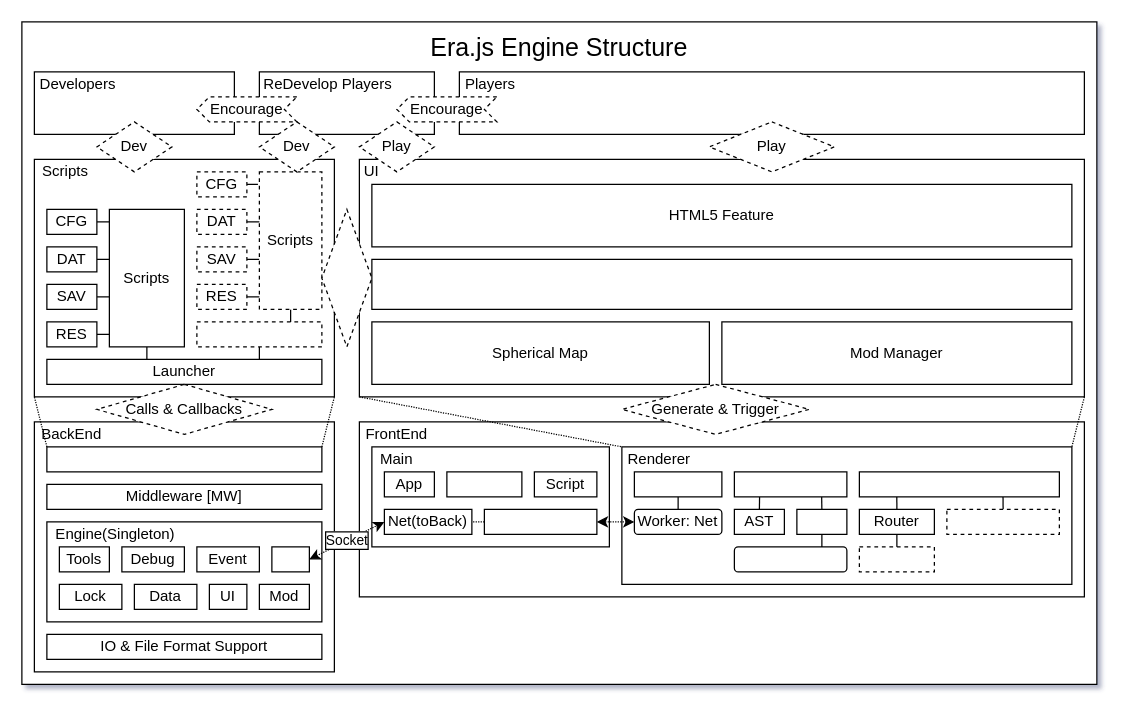
Image size: 1126x714. Some labels were removed from this diagram. The shapes that lost their labels are listed below. From the top down, each one's box as (x1, y1, x2, y2) in pixels, then its label:
(321, 208, 372, 347): Mapping
(371, 258, 1072, 309): Unique Style System
(196, 321, 322, 347): Mods...
(46, 446, 322, 472): API
(446, 471, 522, 497): Window
(633, 471, 722, 497): Net(toMain)
(733, 471, 847, 497): Store
(858, 471, 1059, 497): Display
(483, 508, 597, 534): Net(toRenderer)
(796, 508, 847, 534): Map
(946, 508, 1059, 534): Components...
(271, 546, 309, 572): Net
(733, 546, 847, 572): Worker: Map
(858, 546, 934, 572): Routes...
